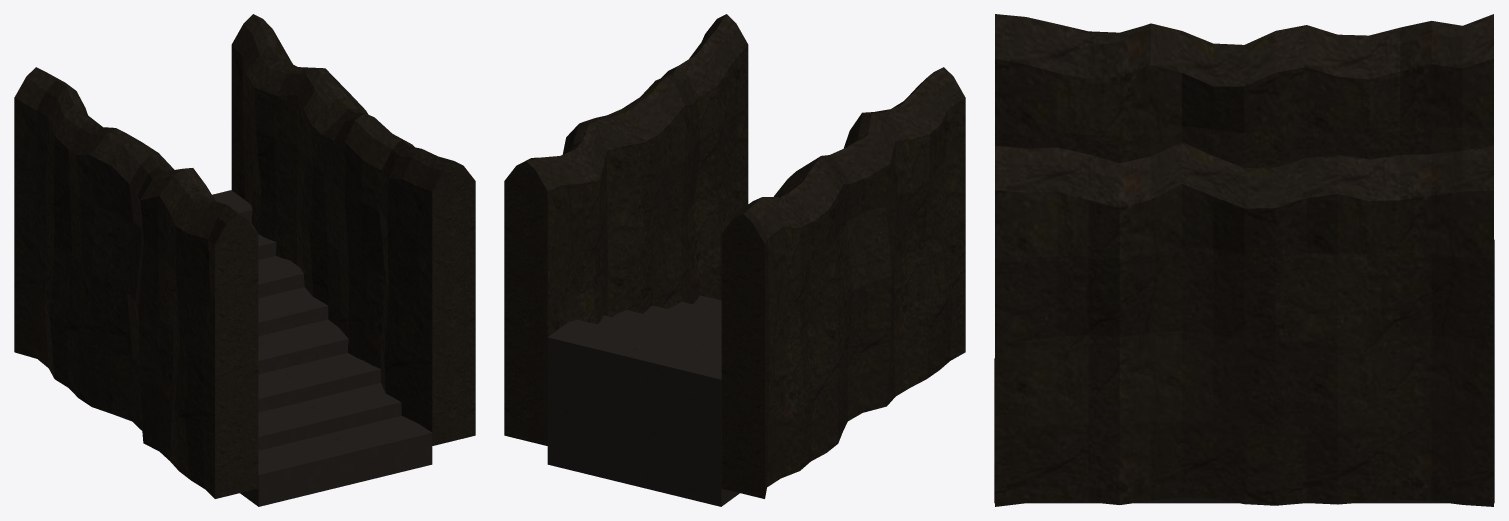
File: cave_stairs_01_lava.glb
3 renders of one model, left to right at view 1: azimuth 30°, elevation 25°; view 2: azimuth 150°, elevation 25°; view 3: azimuth 270°, elevation 25°, orthographic. The views are drawn at different scales.
Parts seen in each view (by area): view 1: cave_stairs_01_lava; view 2: cave_stairs_01_lava; view 3: cave_stairs_01_lava.
Part boxes in pixels (x1,y1,x2,y2): cave_stairs_01_lava: (14,14,475,506); cave_stairs_01_lava: (504,14,965,506); cave_stairs_01_lava: (994,14,1494,506).
Size of the model in its own units: 3.09 by 3.28 by 4.01.
3 materials, 3 textured.
